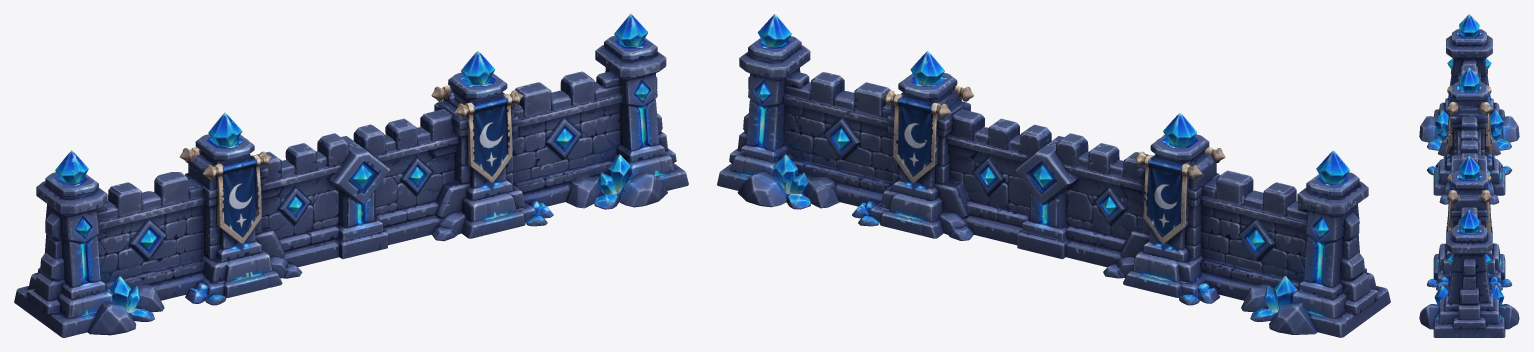
File: moon_wall.glb
The picture shows the model from 3 angles, left to right: view 1: azimuth 30°, elevation 25°; view 2: azimuth 150°, elevation 25°; view 3: azimuth 270°, elevation 25°; orthographic projection. The views are drawn at different scales.
Parts seen in each view (by area): view 1: frame; view 2: frame; view 3: frame.
Part boxes in pixels (x1,y1,x2,y2): frame: [14, 14, 688, 337]; frame: [717, 14, 1390, 337]; frame: [1419, 14, 1519, 337].
Size of the model in its own units: 16 by 3.94 by 3.08.
1 material, 1 textured.
